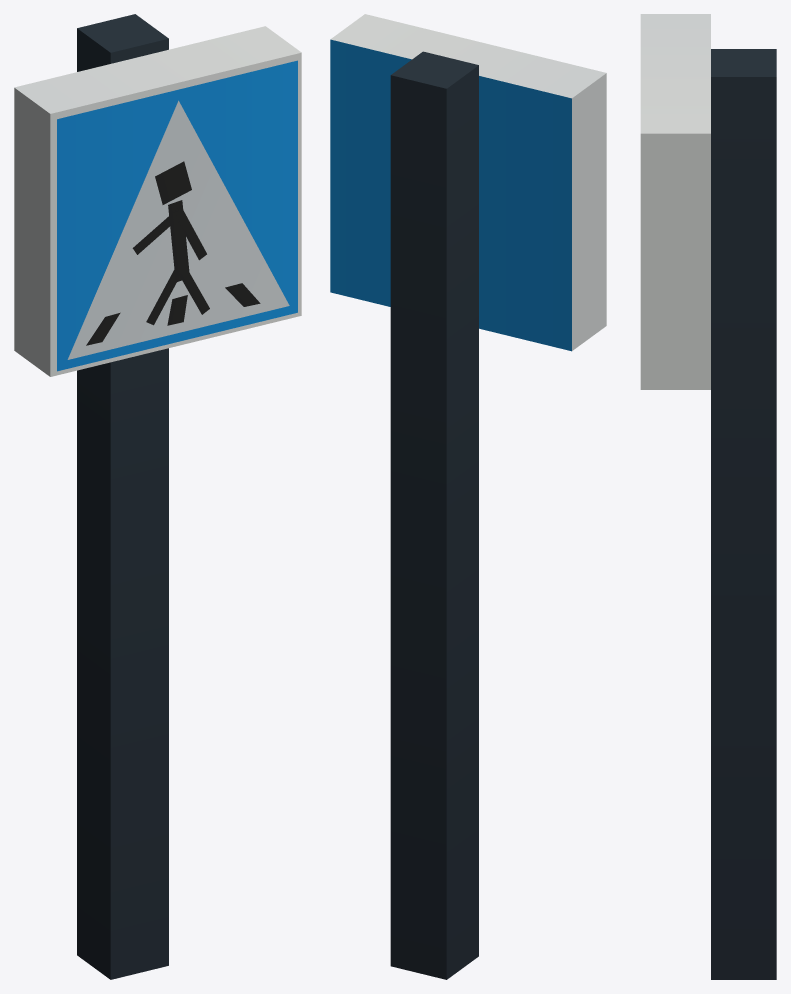
Rendered from Road_sign_3.fbx.
3 renders of one model, left to right at view 1: azimuth 30°, elevation 25°; view 2: azimuth 150°, elevation 25°; view 3: azimuth 270°, elevation 25°, orthographic. The views are drawn at different scales.
Parts seen in each view (by area): view 1: Road_sign_3; view 2: Road_sign_3; view 3: Road_sign_3.
Boxes of the visible parts, <box> form: Road_sign_3: <box>14,14,301,979</box>; Road_sign_3: <box>330,14,606,979</box>; Road_sign_3: <box>640,14,776,979</box>.
Bounding box in the file's own units: 102 × 359 × 50.96.
